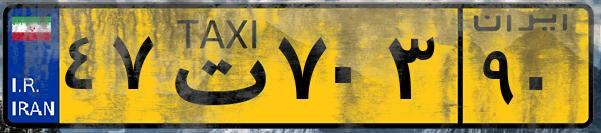0: (330, 28, 385, 110), (525, 38, 570, 115)
3: (385, 28, 445, 110)
4: (57, 26, 110, 100)
7: (270, 28, 330, 110), (110, 28, 158, 98)
9: (475, 38, 525, 113)
ت: (158, 12, 270, 120)
